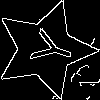Y: (20, 24, 77, 71)
